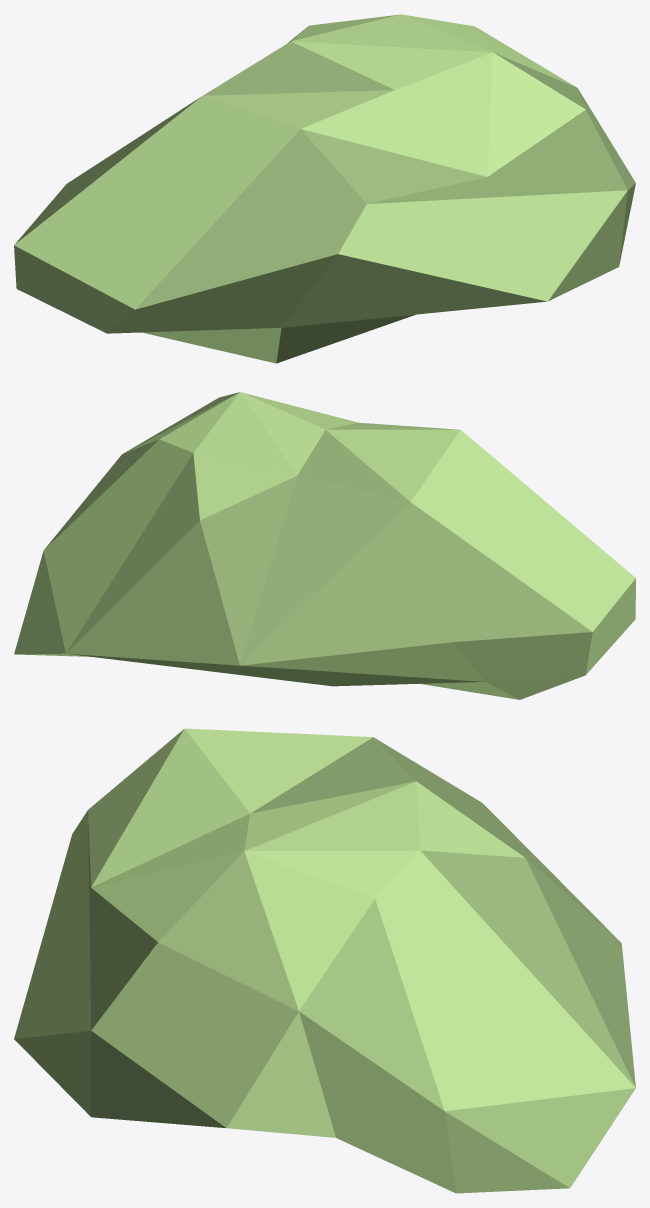
File: Arbusto.fbx
3 views of the same model, one above another, from view 1: azimuth 30°, elevation 25°; view 2: azimuth 150°, elevation 25°; view 3: azimuth 270°, elevation 25° (orthographic). The views are drawn at different scales.
Visible parts, largest first — view 1: bush; view 2: bush; view 3: bush.
Boxes of the visible parts, x1,y1,x2,y2 form: bush: (14, 14, 635, 363); bush: (14, 392, 635, 699); bush: (14, 728, 635, 1193).
Size of the model in its own units: 309 by 121 by 235.
